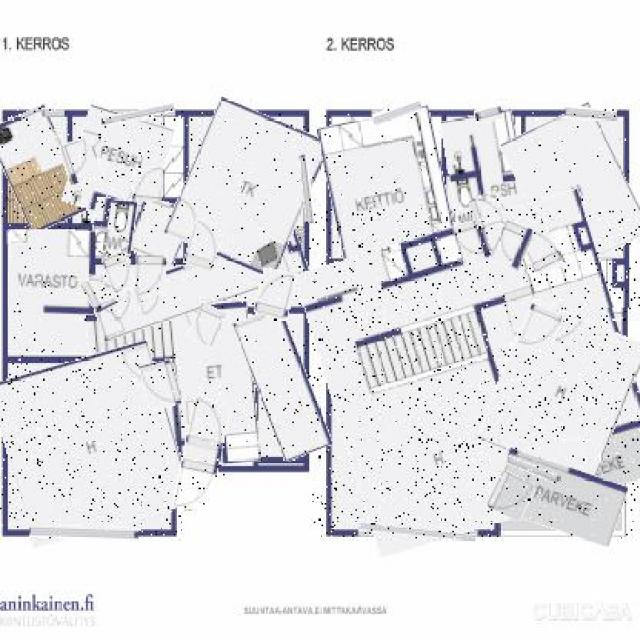door: (178, 398, 224, 512), (523, 221, 563, 274), (142, 360, 182, 409), (490, 474, 532, 520), (256, 270, 296, 318), (522, 305, 562, 352), (492, 222, 532, 269), (186, 220, 222, 269), (62, 139, 102, 183), (189, 304, 222, 344), (136, 256, 166, 296), (84, 274, 116, 311), (105, 254, 134, 294), (472, 192, 503, 228), (132, 168, 163, 202)
window: (30, 525, 142, 540), (358, 526, 477, 539), (101, 108, 176, 121), (372, 103, 422, 122), (506, 462, 562, 478), (302, 154, 312, 223), (565, 108, 617, 119), (476, 106, 502, 123), (42, 108, 64, 117)
zone: (312, 207, 640, 538), (0, 350, 182, 538), (91, 306, 257, 472), (489, 308, 637, 475), (175, 106, 318, 269), (323, 111, 451, 263), (514, 108, 637, 266), (92, 244, 308, 324), (245, 309, 320, 460), (68, 111, 168, 220), (10, 231, 96, 354), (496, 457, 624, 538), (0, 107, 78, 229), (445, 113, 526, 230), (129, 198, 189, 262), (92, 198, 136, 254)
